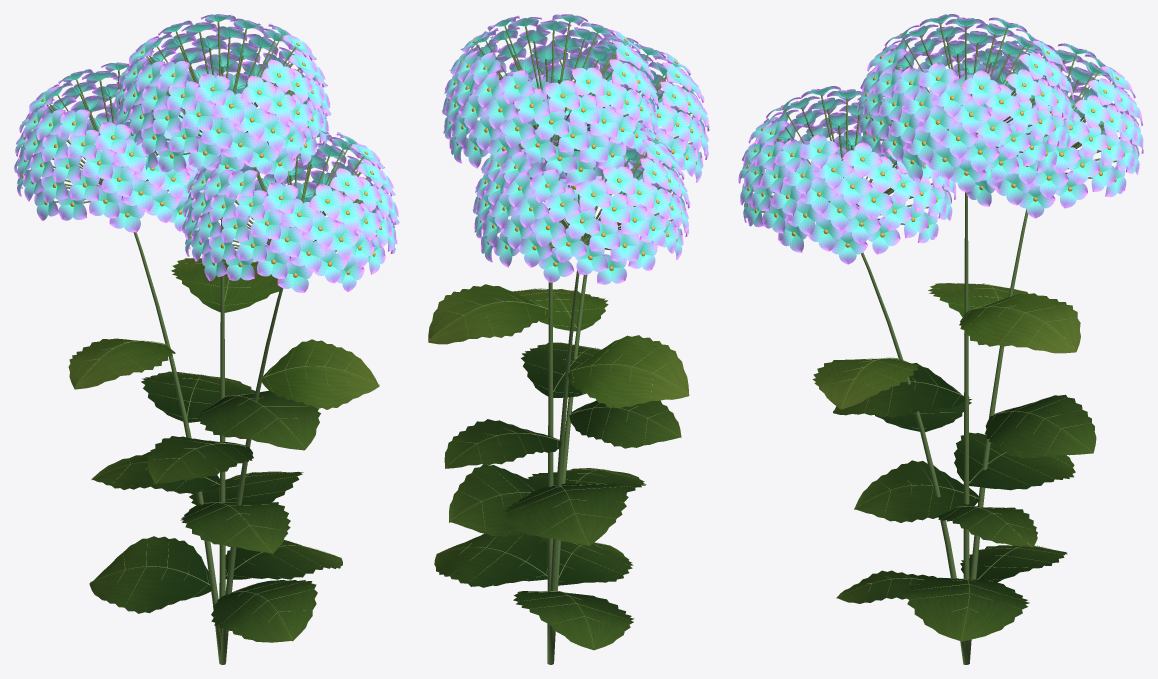
The model's file is hydrangea-dream-10.glb.
3 views of the same model, side by side, from view 1: azimuth 30°, elevation 25°; view 2: azimuth 150°, elevation 25°; view 3: azimuth 270°, elevation 25° (orthographic).
Parts seen in each view (by area): view 1: hydrangea_dream_stage_10_hydrangea_petal.020, hydrangea_dream_stage_10_leaf_veins.020, hydrangea_dream_stage_10_young_leaf.020, hydrangea_dream_stage_10_stem_fibres.020, hydrangea_dream_stage_10_raised_midveins.020, hydrangea_dream_stage_10_pollen_granules.020; view 2: hydrangea_dream_stage_10_hydrangea_petal.020, hydrangea_dream_stage_10_leaf_veins.020, hydrangea_dream_stage_10_young_leaf.020, hydrangea_dream_stage_10_stem_fibres.020, hydrangea_dream_stage_10_raised_midveins.020, hydrangea_dream_stage_10_pollen_granules.020; view 3: hydrangea_dream_stage_10_hydrangea_petal.020, hydrangea_dream_stage_10_leaf_veins.020, hydrangea_dream_stage_10_young_leaf.020, hydrangea_dream_stage_10_stem_fibres.020, hydrangea_dream_stage_10_raised_midveins.020, hydrangea_dream_stage_10_pollen_granules.020.
Boxes of the visible parts, x1,y1,x2,y2 form: hydrangea_dream_stage_10_hydrangea_petal.020: (14,14,399,292); hydrangea_dream_stage_10_leaf_veins.020: (89,371,342,642); hydrangea_dream_stage_10_young_leaf.020: (68,258,379,409); hydrangea_dream_stage_10_stem_fibres.020: (29,22,382,664); hydrangea_dream_stage_10_raised_midveins.020: (72,263,379,639); hydrangea_dream_stage_10_pollen_granules.020: (21,43,381,277); hydrangea_dream_stage_10_hydrangea_petal.020: (442,14,709,284); hydrangea_dream_stage_10_leaf_veins.020: (434,342,681,650); hydrangea_dream_stage_10_young_leaf.020: (428,284,689,408); hydrangea_dream_stage_10_stem_fibres.020: (468,22,694,664); hydrangea_dream_stage_10_raised_midveins.020: (429,288,688,647); hydrangea_dream_stage_10_pollen_granules.020: (448,39,701,270); hydrangea_dream_stage_10_hydrangea_petal.020: (738,14,1143,264); hydrangea_dream_stage_10_leaf_veins.020: (833,363,1096,641); hydrangea_dream_stage_10_young_leaf.020: (812,283,1080,409); hydrangea_dream_stage_10_stem_fibres.020: (752,23,1127,664); hydrangea_dream_stage_10_raised_midveins.020: (817,283,1092,640); hydrangea_dream_stage_10_pollen_granules.020: (746,33,1127,247).
Size of the model in its own units: 0.3746 by 0.81 by 0.4768.
6 materials, 3 textured.
